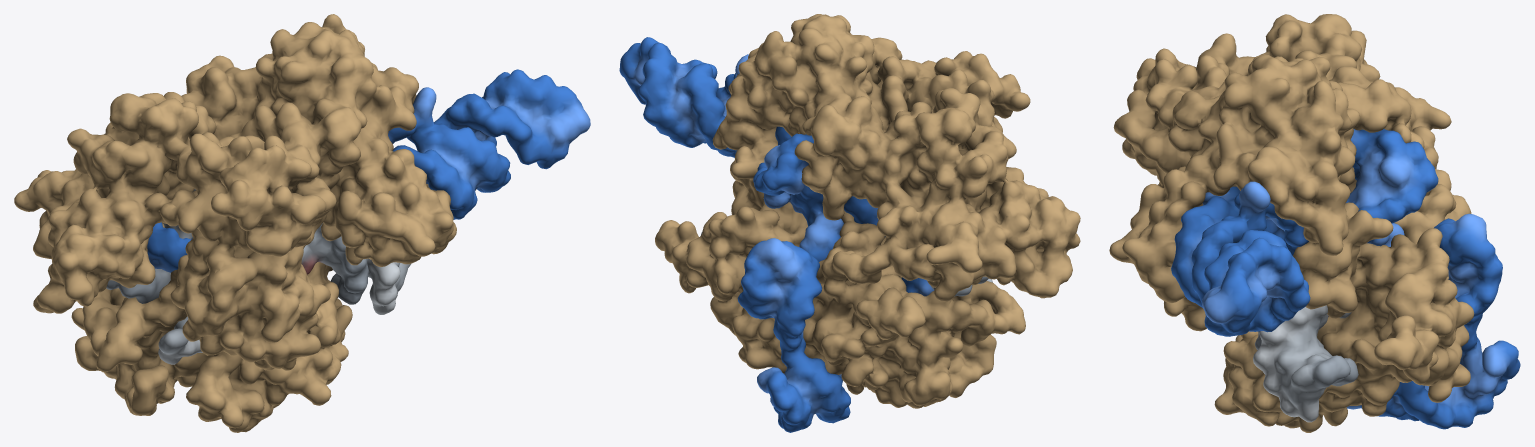
3 renders of one model, left to right at view 1: azimuth 30°, elevation 25°; view 2: azimuth 150°, elevation 25°; view 3: azimuth 270°, elevation 25°, orthographic. The views are drawn at different scales.
Parts seen in each view (by area): view 1: 5F9R_protein, 5F9R_sgrna, 5F9R_dna; view 2: 5F9R_protein, 5F9R_sgrna; view 3: 5F9R_protein, 5F9R_sgrna, 5F9R_dna.
Boxes of the visible parts, x1,y1,x2,y2 form: 5F9R_protein: (14,14,456,432); 5F9R_sgrna: (147,69,590,272); 5F9R_dna: (106,189,410,364); 5F9R_protein: (655,14,1080,408); 5F9R_sgrna: (619,37,933,432); 5F9R_protein: (1109,14,1474,432); 5F9R_sgrna: (1171,129,1520,429); 5F9R_dna: (1253,305,1358,422).
Bounding box in the file's own units: 15 × 10.56 × 9.78.
